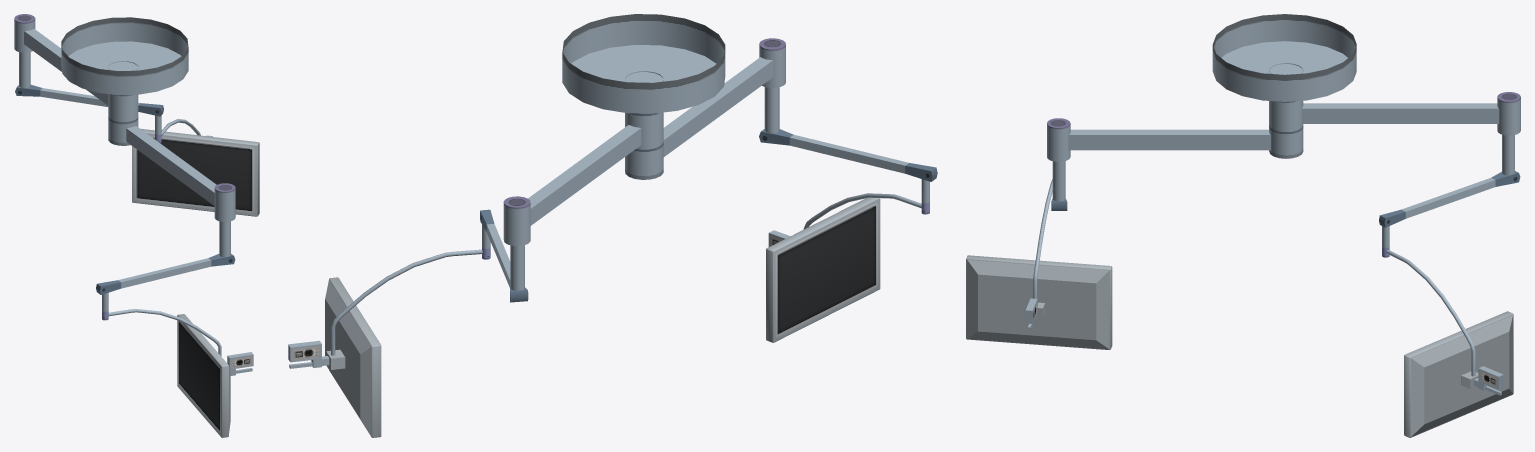
The model's file is operating monitor.FBX.
3 views of the same model, side by side, from view 1: azimuth 30°, elevation 25°; view 2: azimuth 150°, elevation 25°; view 3: azimuth 270°, elevation 25° (orthographic). The views are drawn at different scales.
Visible parts, largest first — view 1: operating monitor; view 2: operating monitor; view 3: operating monitor.
Part boxes in pixels (<box>): operating monitor: <box>14,14,259,437</box>; operating monitor: <box>288,14,937,437</box>; operating monitor: <box>966,14,1520,437</box>.
Size of the model in its own units: 57.35 by 77.08 by 48.41.
